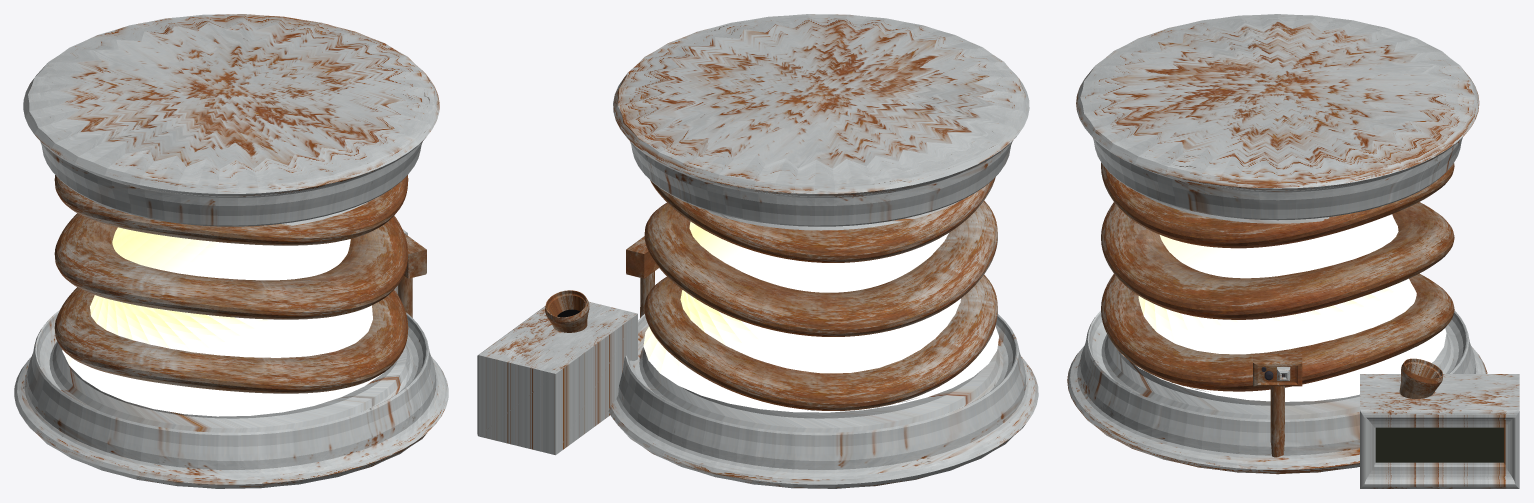
File: GeneratorMk2.glb
3 renders of one model, left to right at view 1: azimuth 30°, elevation 25°; view 2: azimuth 150°, elevation 25°; view 3: azimuth 270°, elevation 25°, orthographic. The views are drawn at different scales.
Visible parts, largest first — view 1: Cylinder.002, Torus, Cylinder, Cylinder.001, Cube, Cylinder.003; view 2: Cylinder.002, Torus, Cylinder, Cylinder.001, Plane, Cylinder.006, Cube; view 3: Cylinder.002, Torus, Cylinder, Cylinder.001, Plane, Plane.001, Cylinder.006, Cube, Cylinder.003.
Part boxes in pixels (left/top/right/bottom): Cylinder.002: left=23, top=14, right=439, bottom=226; Torus: left=54, top=175, right=408, bottom=393; Cylinder: left=14, top=310, right=448, bottom=488; Cylinder.001: left=62, top=227, right=382, bottom=416; Cube: left=404, top=233, right=426, bottom=278; Cylinder.003: left=397, top=276, right=412, bottom=317; Cylinder.002: left=613, top=14, right=1029, bottom=230; Torus: left=644, top=177, right=997, bottom=410; Cylinder: left=608, top=314, right=1038, bottom=488; Cylinder.001: left=643, top=221, right=998, bottom=412; Plane: left=477, top=301, right=637, bottom=455; Cylinder.006: left=545, top=290, right=589, bottom=332; Cube: left=626, top=236, right=658, bottom=278; Cylinder.002: left=1076, top=14, right=1479, bottom=223; Torus: left=1101, top=162, right=1454, bottom=391; Cylinder: left=1067, top=310, right=1487, bottom=474; Cylinder.001: left=1122, top=214, right=1446, bottom=401; Plane: left=1360, top=374, right=1519, bottom=488; Plane.001: left=1375, top=427, right=1503, bottom=462; Cylinder.006: left=1399, top=358, right=1443, bottom=398; Cube: left=1253, top=354, right=1302, bottom=386; Cylinder.003: left=1270, top=386, right=1284, bottom=457.
Size of the model in its own units: 2.24 by 1.66 by 2.21.
Materials: 6 (3 with a texture image).
